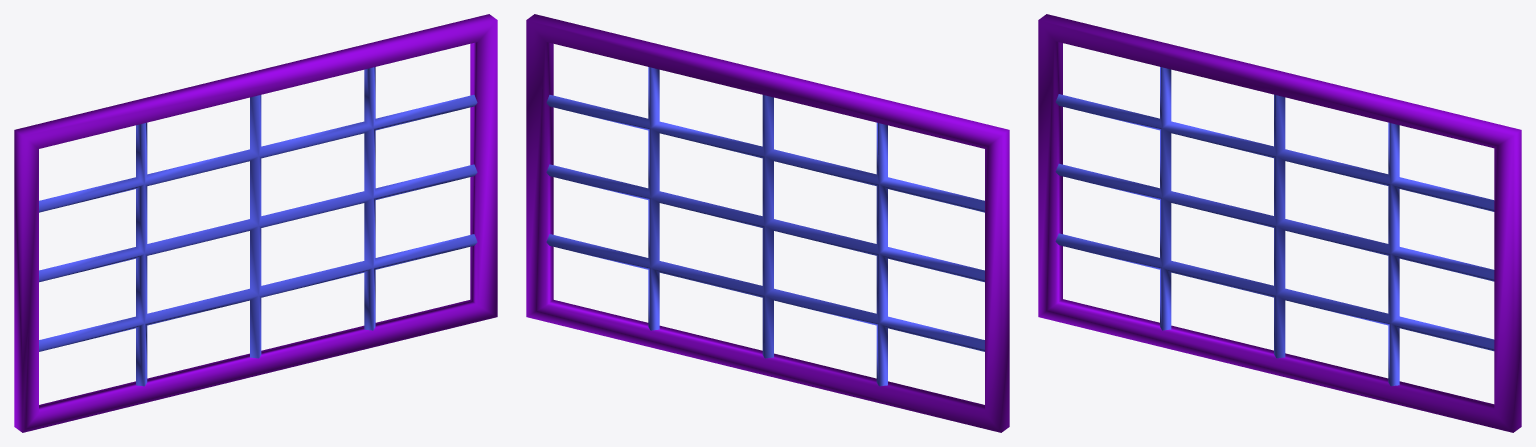
File: boşluklu2-zemin.fbx
The picture shows the model from 3 angles, left to right: view 1: azimuth 30°, elevation 25°; view 2: azimuth 150°, elevation 25°; view 3: azimuth 330°, elevation 25°; orthographic projection.
Parts seen in each view (by area): view 1: Plane.001; view 2: Plane.001; view 3: Plane.001.
Boxes of the visible parts, x1,y1,x2,y2 form: Plane.001: (14,14,497,432); Plane.001: (526,14,1009,432); Plane.001: (1038,14,1521,432).
Bounding box in the file's own units: 357 × 213 × 10.83.
